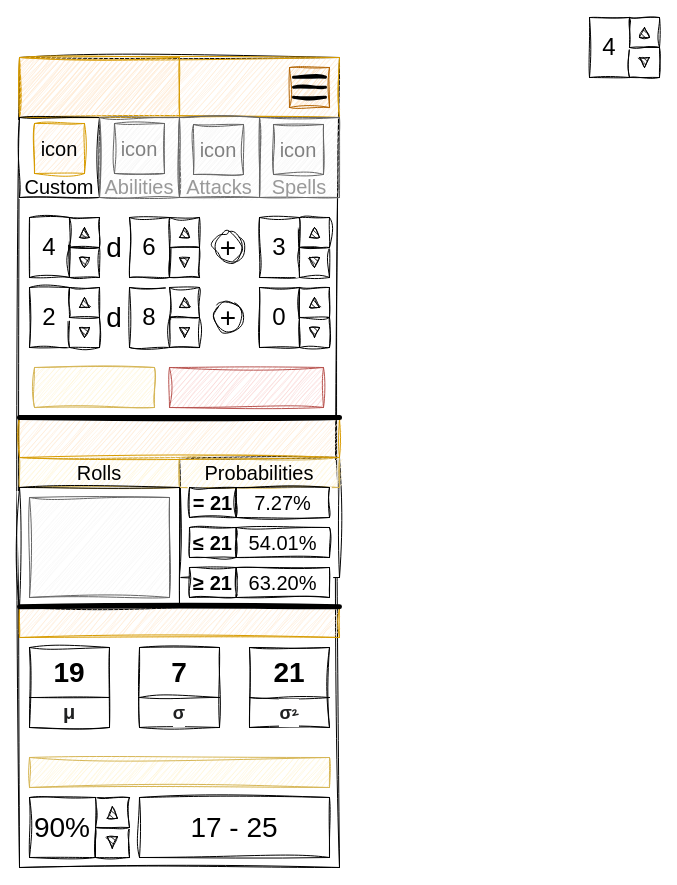
Some shapes in this 677 by 885 pixel diagram are drawn without their labels. Each missing label, with the box of its shape:
12 from 4d6+3 9 from 2d8+0: (28, 496, 170, 598)
Add Die: (34, 366, 154, 408)
Confidence Interval: (28, 756, 330, 788)
LOGO: (18, 56, 180, 118)
Result: 21: (18, 416, 340, 458)
Roll!: (168, 366, 324, 408)
Statistics: (18, 606, 340, 638)
